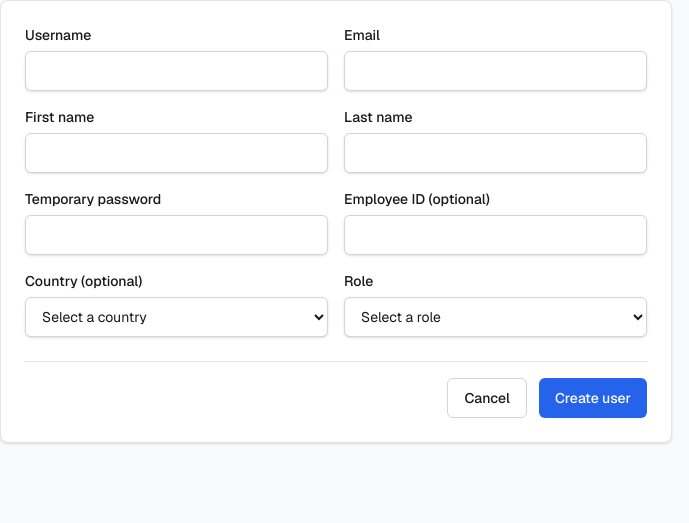
Test: CreateUserForm › does not navigate away when the backend rejects the submission
The image size is (689, 523).
Type "jdoe" into the field labelled "Username" at (176, 71), box x1=25 y1=51 x2=328 y2=91
Type "jdoe@example.com" into the field labelled "Email" at (496, 71), box x1=344 y1=51 x2=647 y2=91
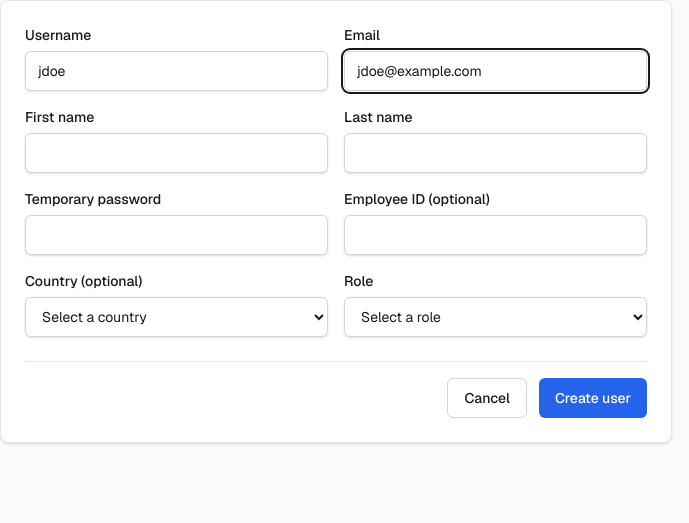
Type "Password@123" into the password field labelled "Temporary password" at (176, 235), box x1=25 y1=215 x2=328 y2=255
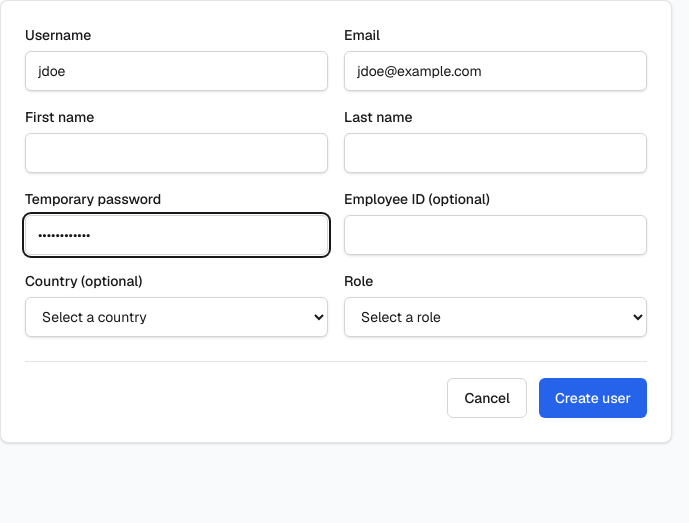
Type "Jane" into the field labelled "First name" at (176, 153), box x1=25 y1=133 x2=328 y2=173
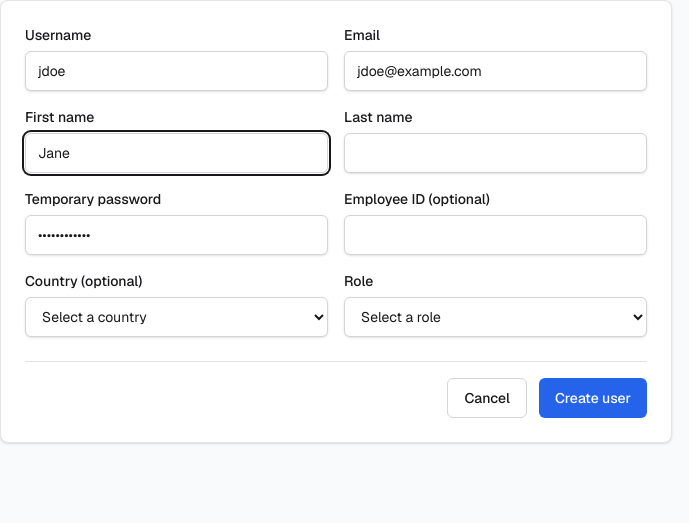
Type "Doe" into the field labelled "Last name" at (496, 153), box x1=344 y1=133 x2=647 y2=173
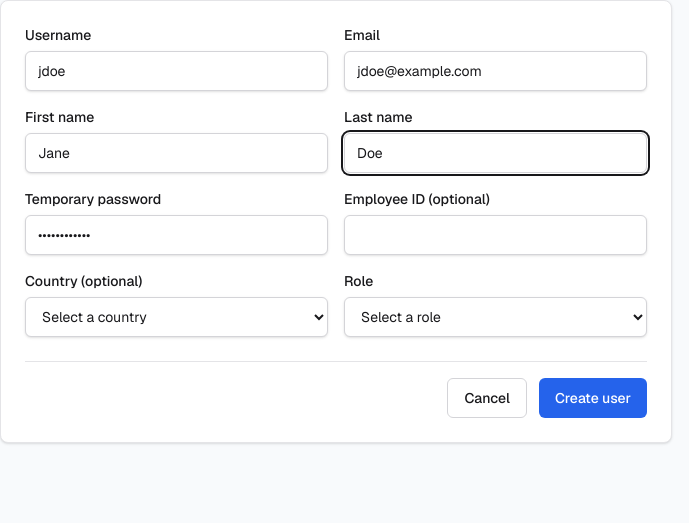
Select "ProjectAdmin" in the dropdown labelled "Role" at (496, 317), box x1=344 y1=297 x2=647 y2=337
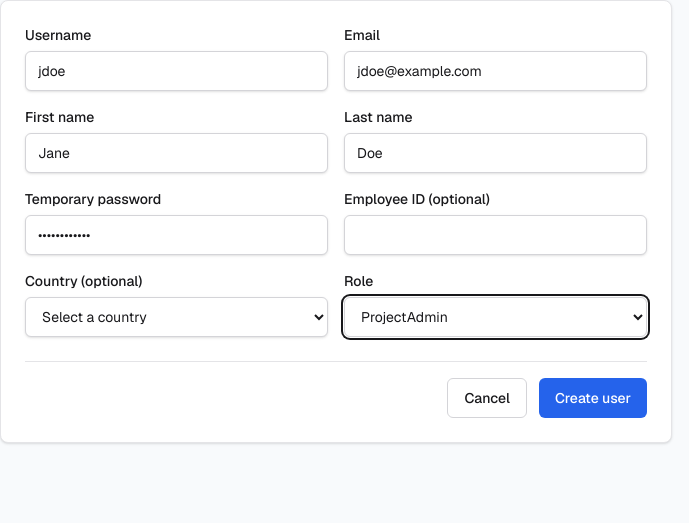
Click the button "Create user" at (593, 398), box x1=539 y1=378 x2=647 y2=418
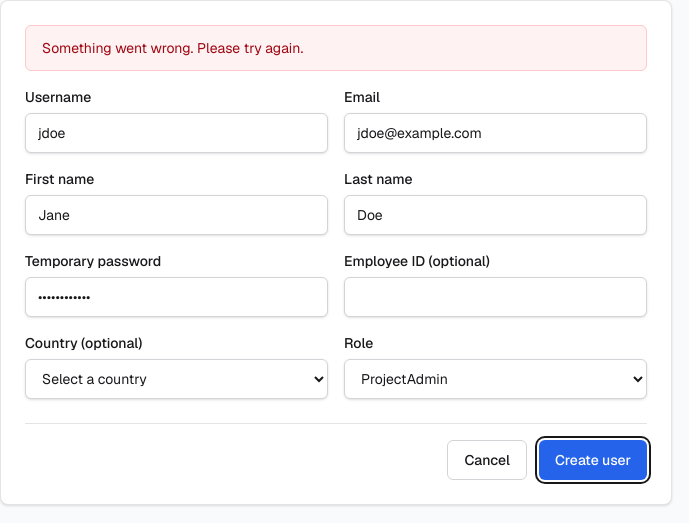
Expected: the message "Something went wrong. Please try again." is shown, x1=25 y1=25 x2=647 y2=71
